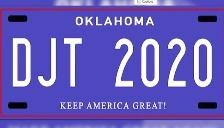0: (192, 35, 213, 89), (140, 35, 160, 89)
2: (165, 35, 189, 90), (112, 35, 136, 90)
D: (11, 36, 33, 89)
J: (35, 37, 60, 89)
T: (62, 36, 84, 90)
